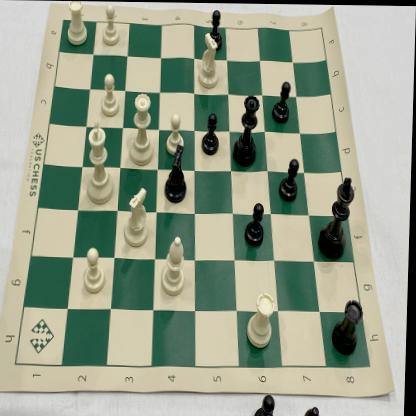black-king: (316, 172, 356, 261)
black-knight: (163, 144, 193, 204)
black-pawn: (244, 199, 268, 248), (278, 157, 301, 204), (199, 112, 222, 158), (204, 6, 225, 52), (272, 80, 292, 126)
black-queen: (233, 89, 262, 170)
black-rook: (330, 295, 369, 358)
white-bishop: (160, 233, 189, 297)
white-king: (85, 120, 119, 207)
white-knight: (124, 187, 154, 250), (197, 31, 222, 89)
white-pawn: (82, 243, 109, 295), (164, 109, 187, 156), (100, 71, 122, 119), (100, 1, 122, 47)
white-queen: (129, 91, 157, 168)
white-rook: (245, 286, 279, 349), (65, 1, 92, 51)
